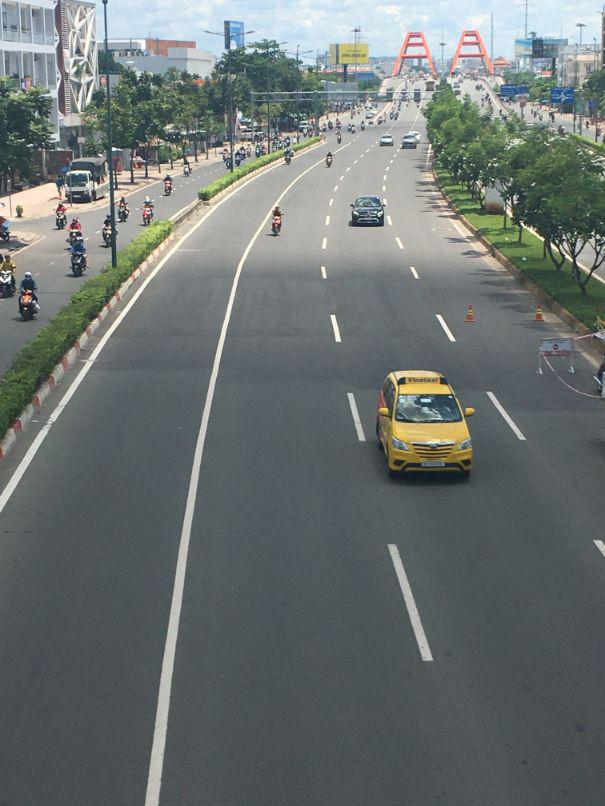car: (375, 365, 474, 478), (350, 195, 385, 227), (402, 134, 420, 151), (380, 133, 394, 145)
motorbike: (70, 244, 87, 276), (0, 272, 14, 298), (272, 209, 284, 236), (55, 203, 66, 228), (326, 152, 333, 167)
truck: (65, 153, 116, 202)
